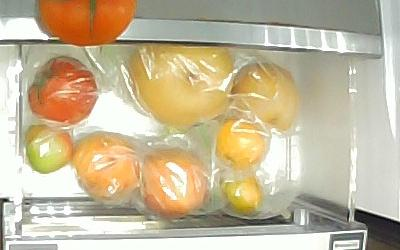peach_vinyl: (69, 129, 141, 200), (138, 145, 208, 216)
pear_vinyl: (126, 41, 234, 125), (228, 61, 297, 133)
tangerine_vinyl: (210, 113, 267, 170), (219, 174, 263, 215)
tomato_vinyl: (26, 53, 98, 124), (23, 121, 73, 174)
